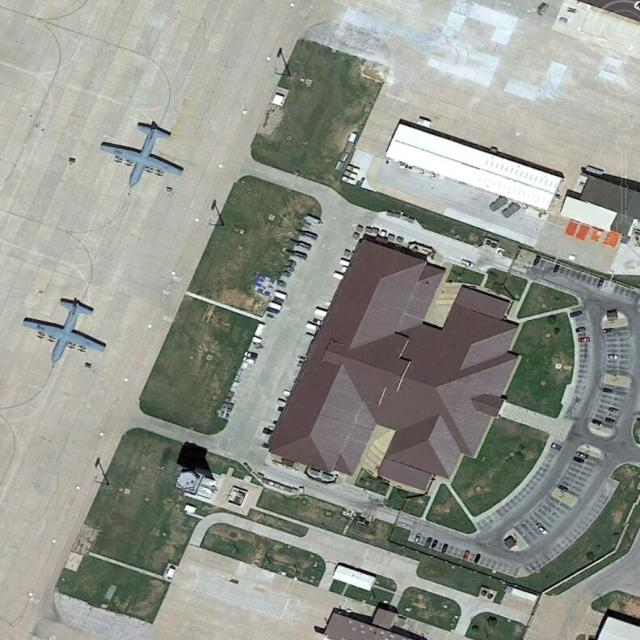fighter jet: (99, 120, 186, 188), (23, 298, 113, 359)
